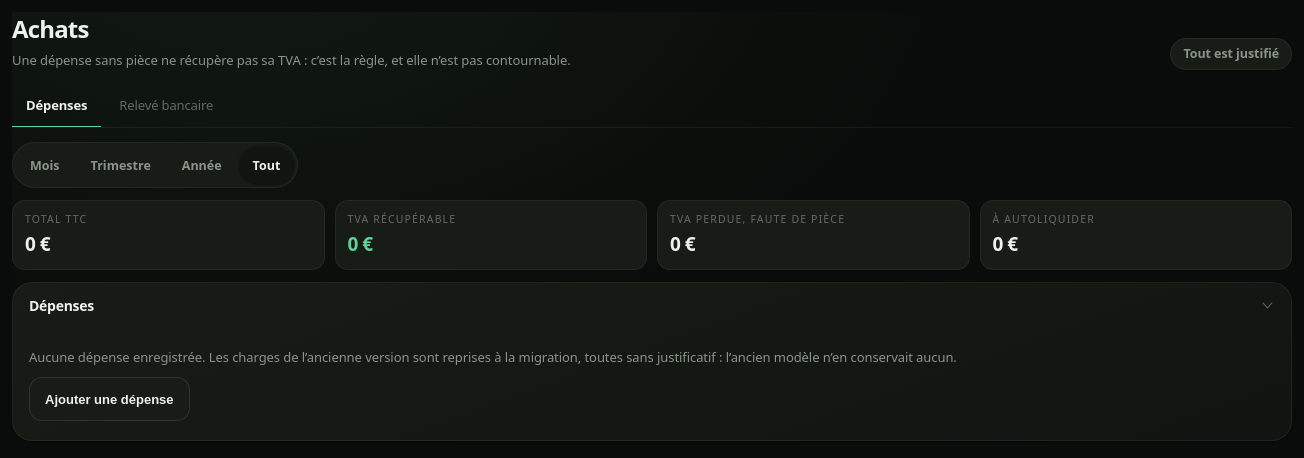
Test: période d’observation › repart de la période courante quand on change de maille
Click the button "Année" at (202, 165), box [168,146,236,184]
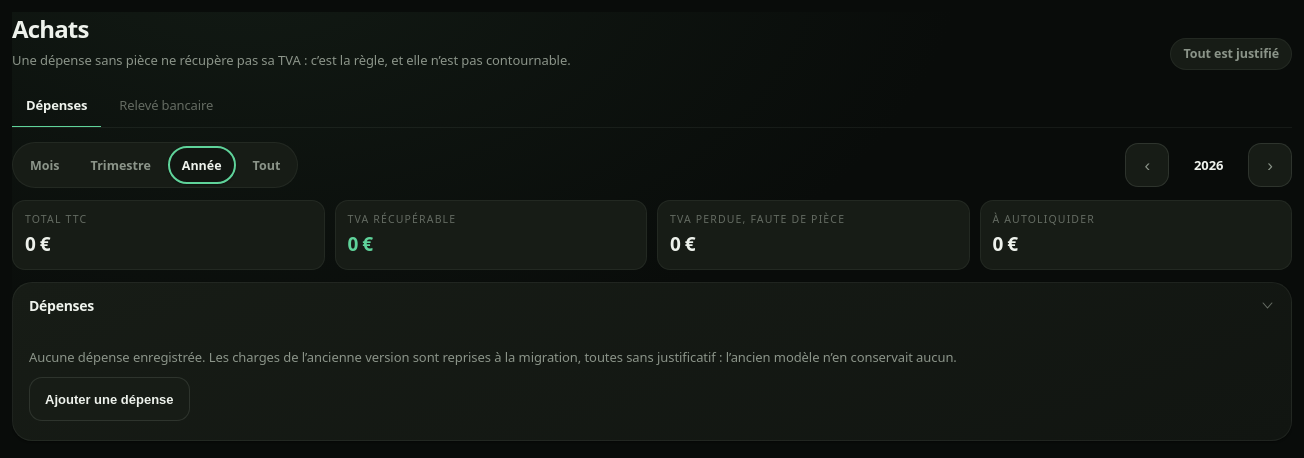
Click the button named "Période précédente" at (1147, 165), box [1125,143,1169,187]
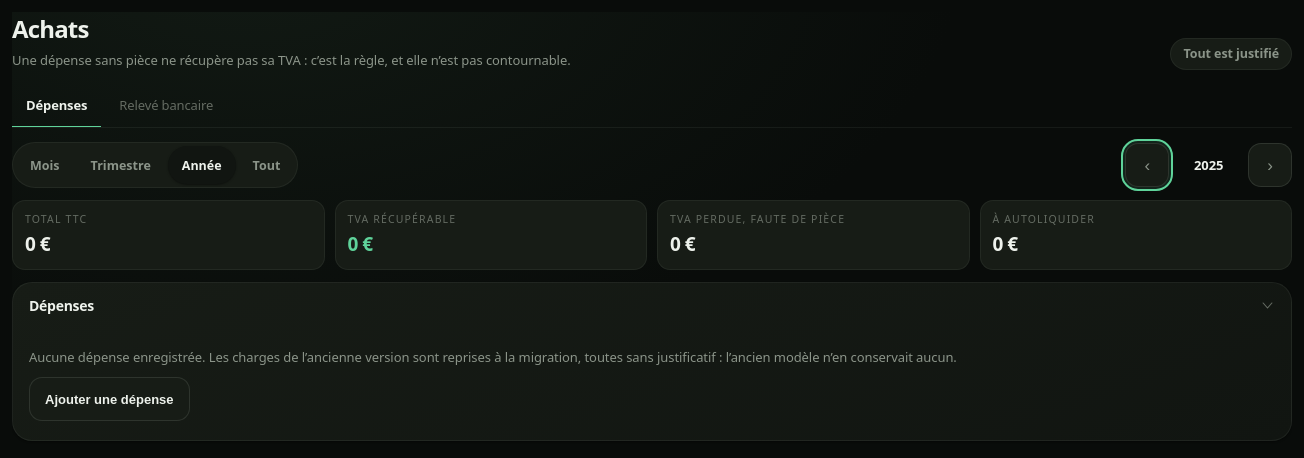
Click the button "Mois" at (45, 165), box [16,146,74,184]
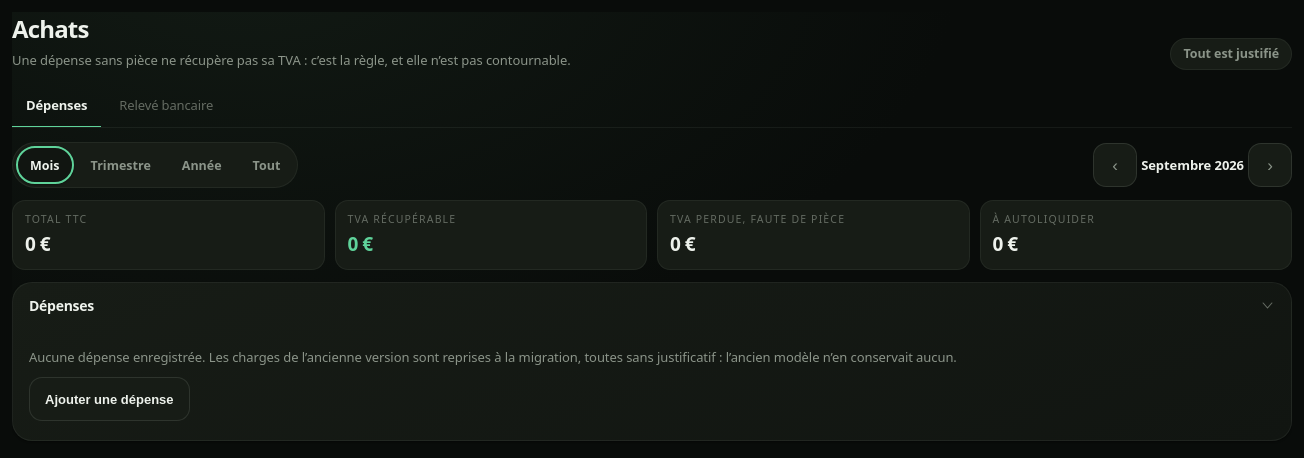
Click the button "Année" at (202, 165), box [168,146,236,184]
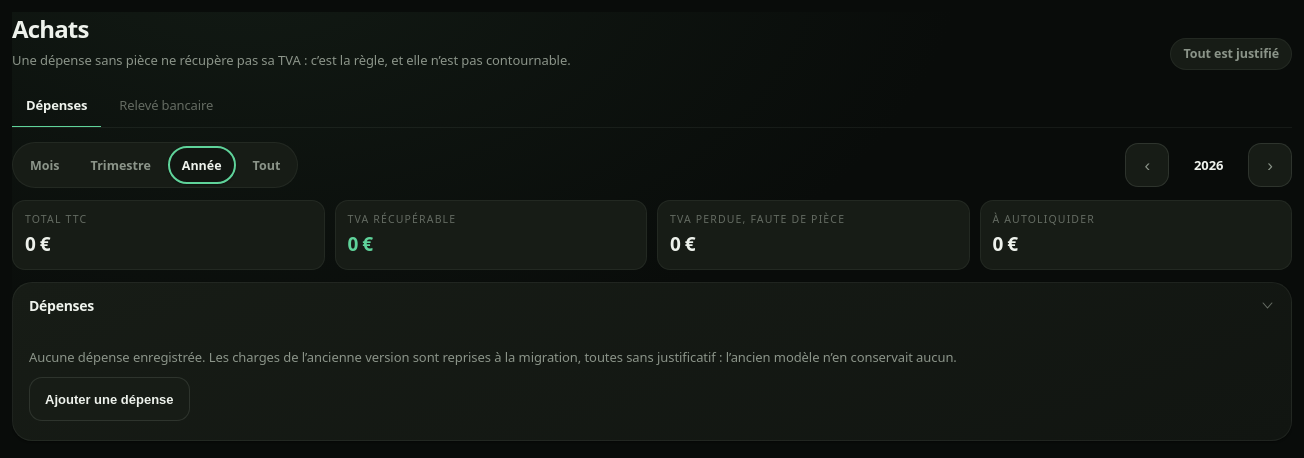
expect the message reads "2026": met, box [1194,156,1223,174]
